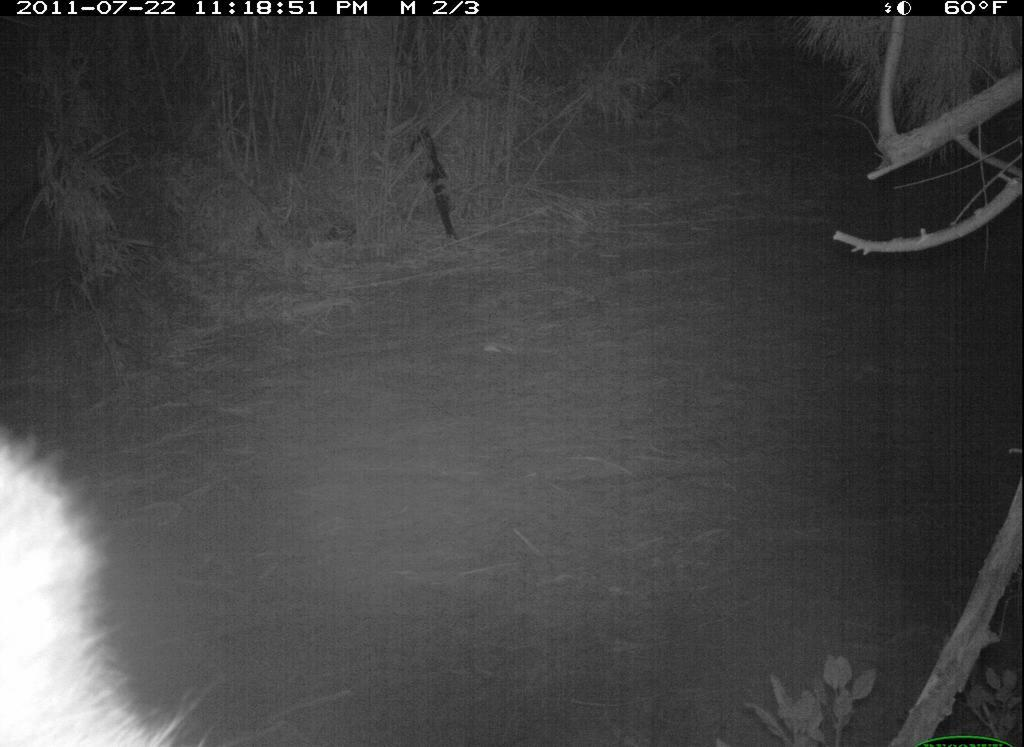raccoon: (2, 417, 213, 745)
